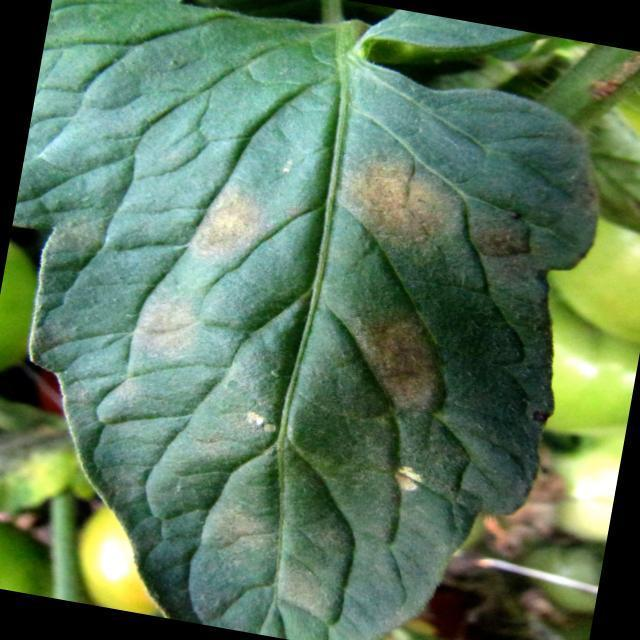Mosaic Virus: (46, 89, 576, 640)
